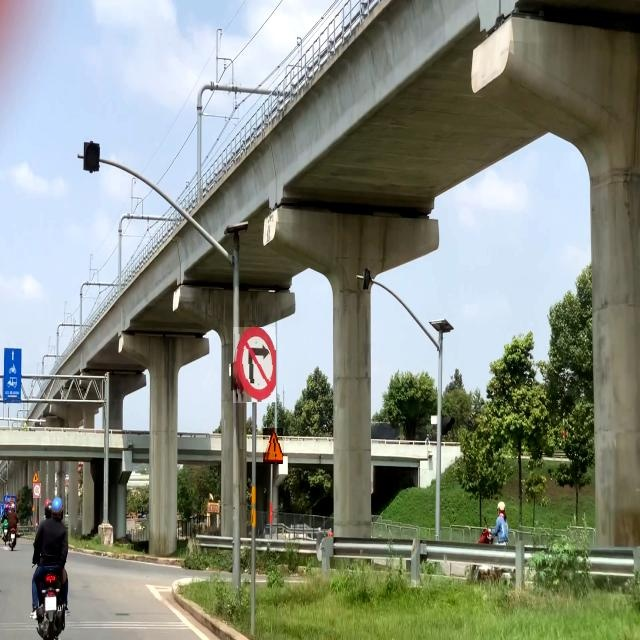bien_cam: (233, 328, 276, 403), (263, 428, 283, 464), (33, 483, 41, 498), (34, 471, 42, 483)
